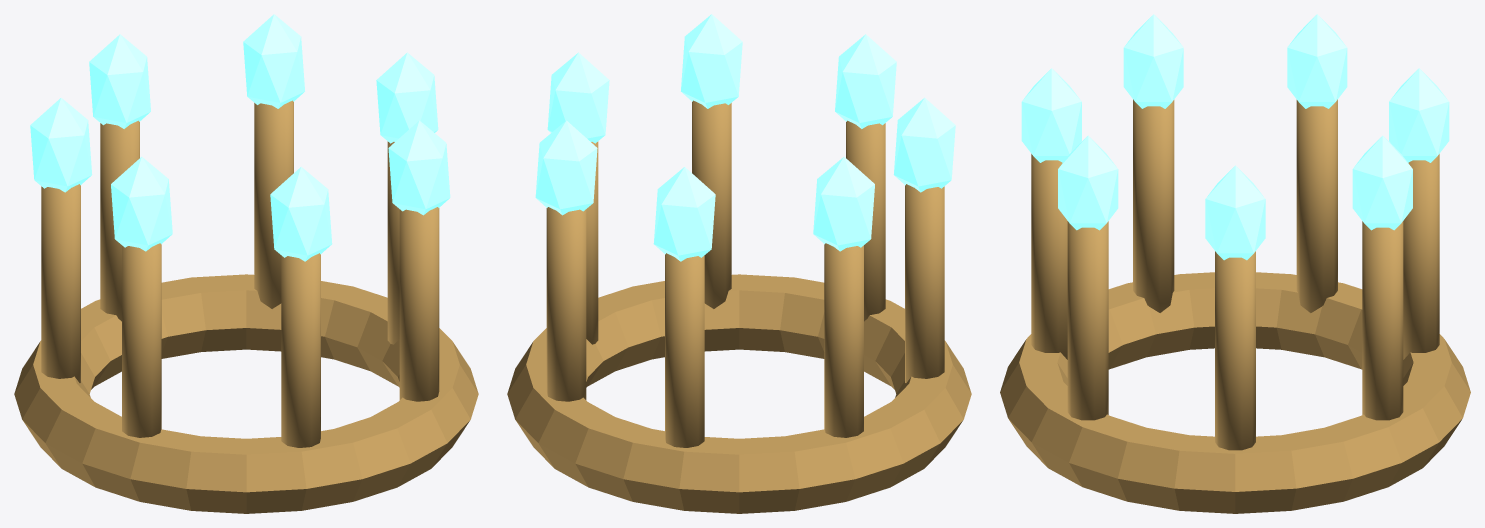
The model's file is relic-saltCrown.glb.
3 views of the same model, side by side, from view 1: azimuth 30°, elevation 25°; view 2: azimuth 150°, elevation 25°; view 3: azimuth 270°, elevation 25° (orthographic).
Parts seen in each view (by area): view 1: relic-saltCrown / Brass | machined champagne, relic-saltCrown / Glass | luminous mint; view 2: relic-saltCrown / Brass | machined champagne, relic-saltCrown / Glass | luminous mint; view 3: relic-saltCrown / Brass | machined champagne, relic-saltCrown / Glass | luminous mint.
Boxes of the visible parts, box(x1,y1,x2,y2) form: relic-saltCrown / Brass | machined champagne: box(14, 100, 478, 513); relic-saltCrown / Glass | luminous mint: box(30, 14, 450, 261); relic-saltCrown / Brass | machined champagne: box(507, 100, 971, 513); relic-saltCrown / Glass | luminous mint: box(535, 14, 955, 261); relic-saltCrown / Brass | machined champagne: box(1000, 99, 1470, 513); relic-saltCrown / Glass | luminous mint: box(1021, 14, 1449, 260).
Size of the model in its own units: 1.6 by 1.26 by 1.6.
